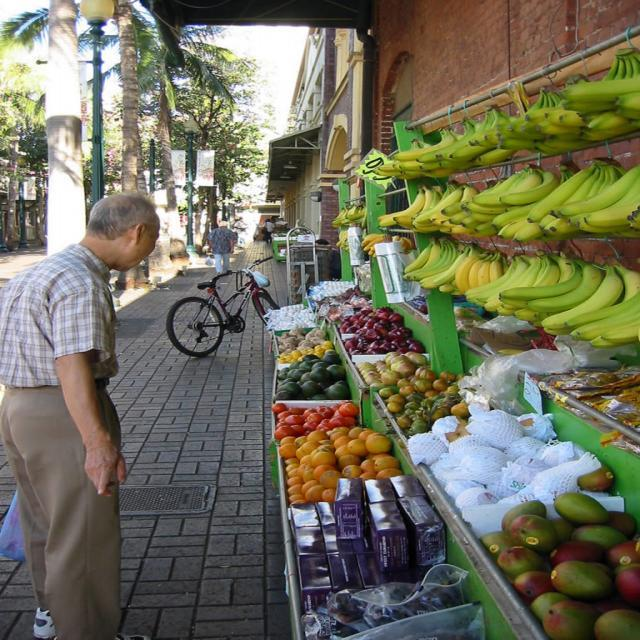Banana: (376, 68, 640, 350), (331, 206, 371, 254)
